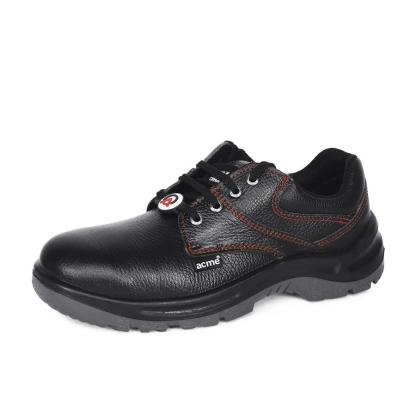bota: (29, 138, 387, 335)
